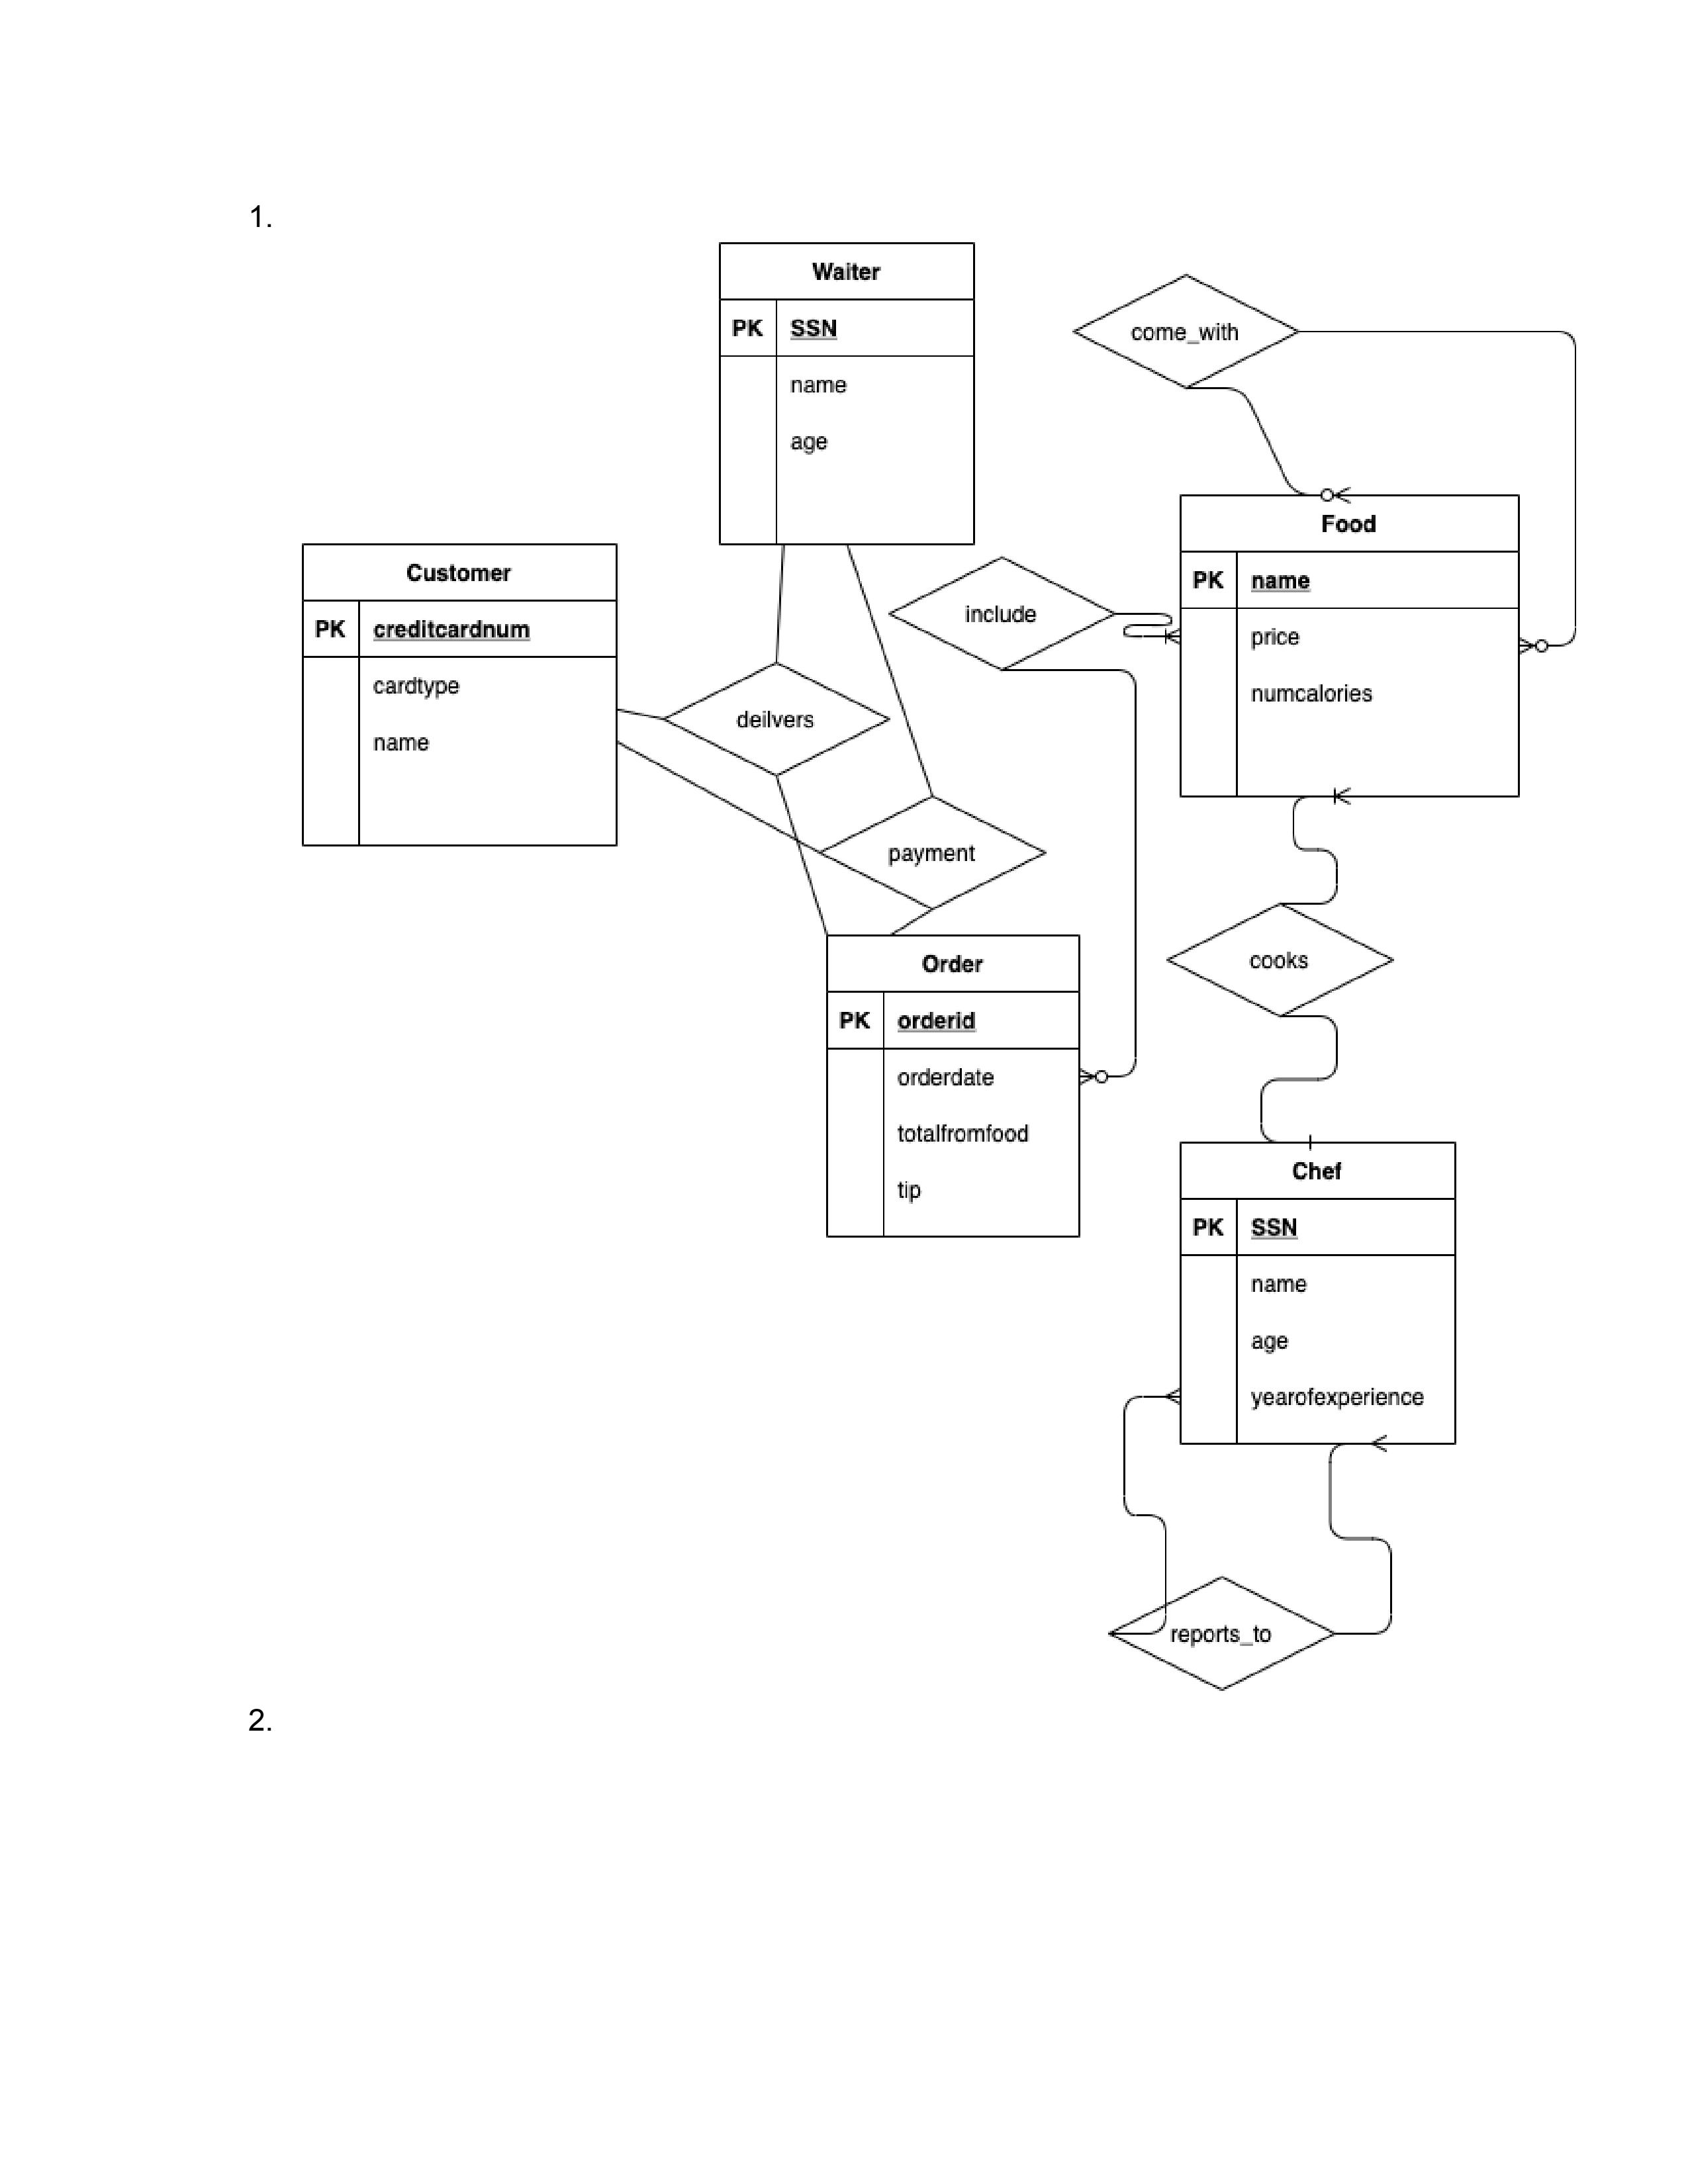Entity: (1176, 486, 1527, 807), (291, 539, 626, 851), (1172, 1138, 1470, 1455), (706, 236, 982, 557), (821, 931, 1089, 1248)
Relationship: (1069, 271, 1298, 394), (1165, 897, 1397, 1016), (821, 798, 1062, 909), (1108, 1578, 1333, 1691), (890, 557, 1115, 668), (668, 658, 883, 775)
